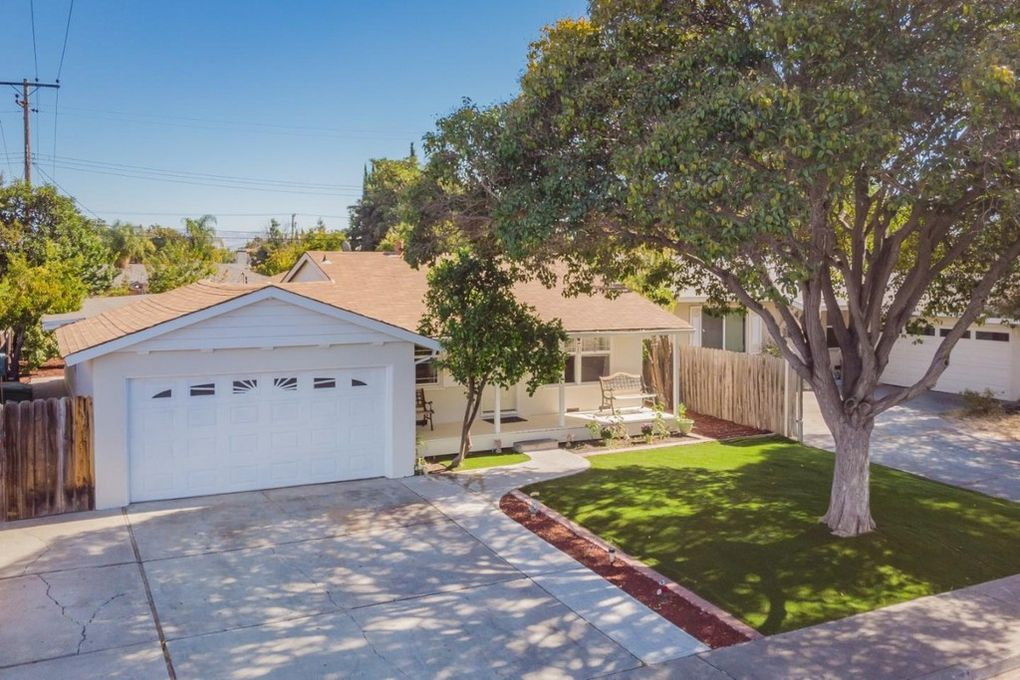tree: (420, 1, 1020, 539), (429, 294, 574, 468)
